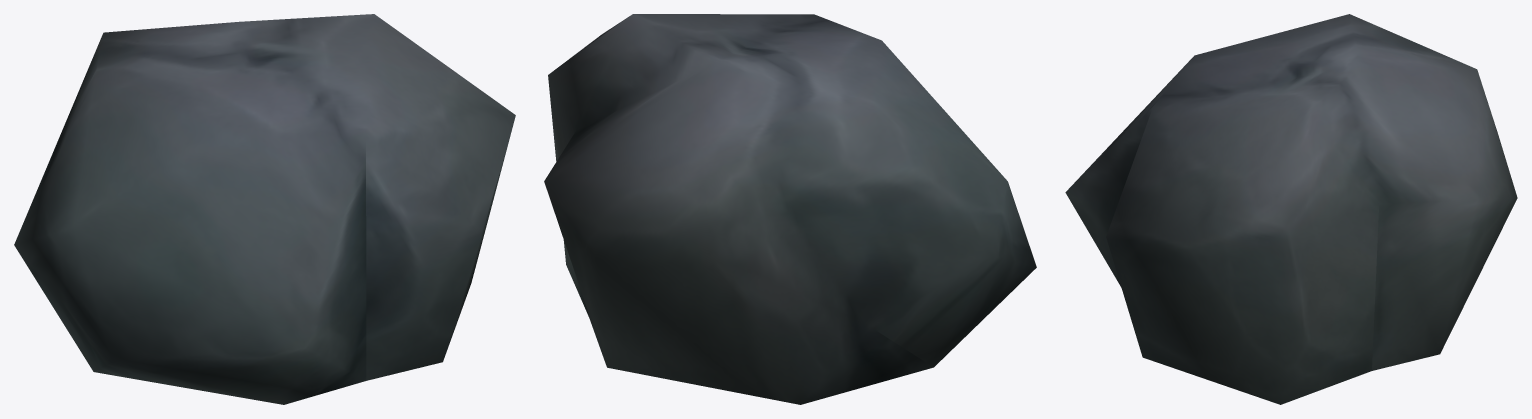
The model's file is TwistedJungle_Stone05.FBX.
The picture shows the model from 3 angles, left to right: view 1: azimuth 30°, elevation 25°; view 2: azimuth 150°, elevation 25°; view 3: azimuth 270°, elevation 25°; orthographic projection. The views are drawn at different scales.
Visible parts, largest first — view 1: TwistedJungle_Stone05; view 2: TwistedJungle_Stone05; view 3: TwistedJungle_Stone05.
Boxes of the visible parts, <box> form: TwistedJungle_Stone05: <box>14,14,515,404</box>; TwistedJungle_Stone05: <box>544,14,1036,404</box>; TwistedJungle_Stone05: <box>1065,14,1517,404</box>.
Size of the model in its own units: 53.31 by 32.69 by 51.06.
